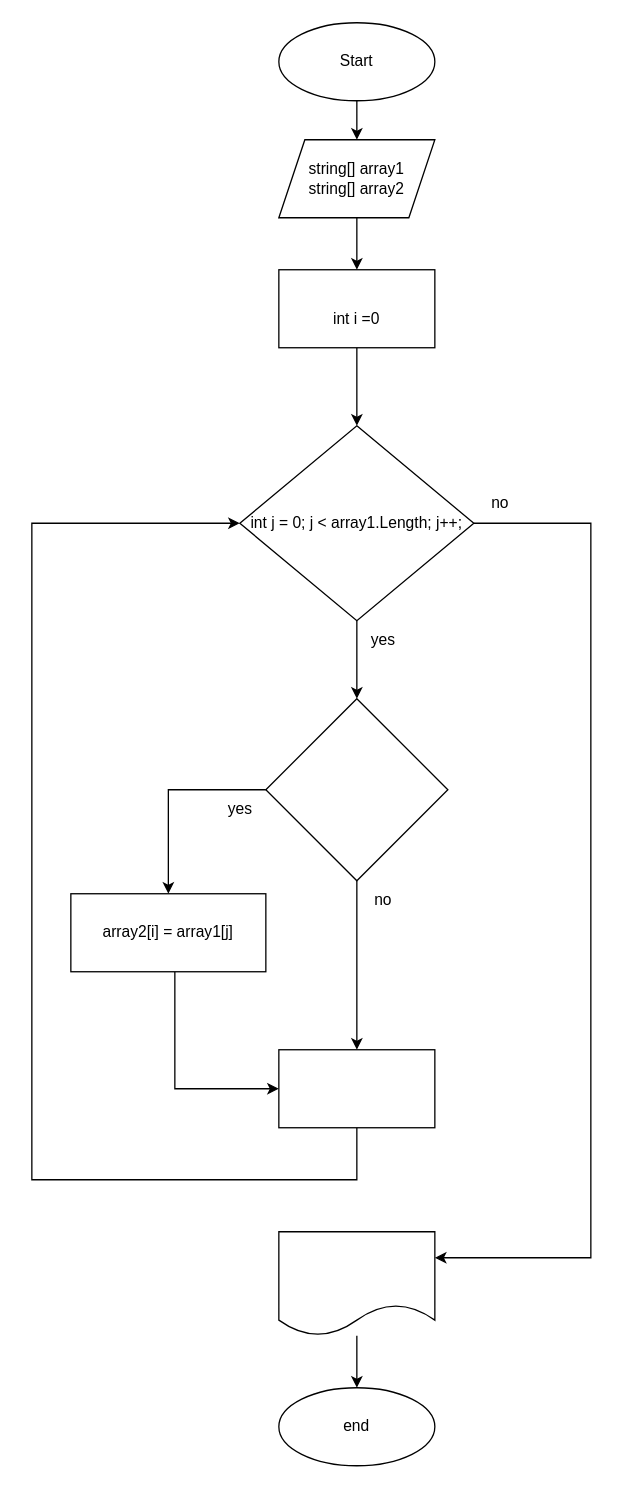
Image size: 624x1489. Some labels were removed from this diagram. The shapes that lost their labels are listed below. From the top down, each one's centre as x and y in pixels, then its label:
At [356,789]: "array1[j].Length <= 3".
At [356,1088]: "i++".
At [356,1283]: "PrintArray(array2)".
